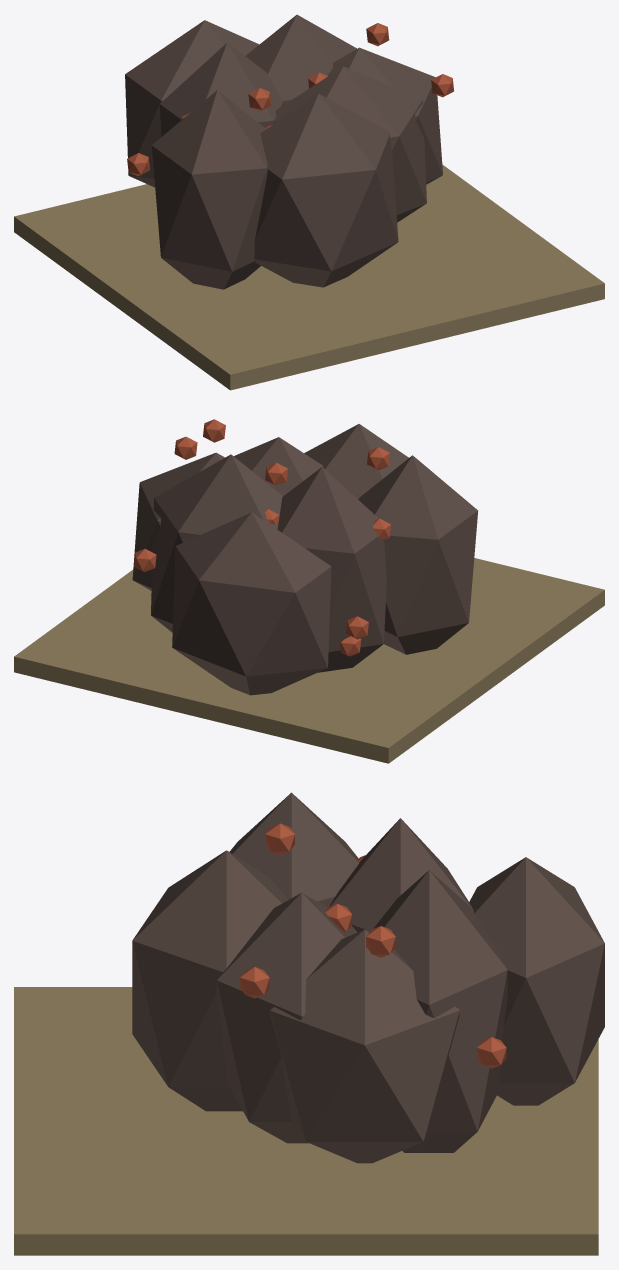
File: Deposit_Iron_Normal.fbx
3 renders of one model, top to bottom at view 1: azimuth 30°, elevation 25°; view 2: azimuth 150°, elevation 25°; view 3: azimuth 270°, elevation 25°, orthographic. The views are drawn at different scales.
Parts seen in each view (by area): view 1: Deposit_Iron_Normal_Body; view 2: Deposit_Iron_Normal_Body; view 3: Deposit_Iron_Normal_Body.
Part boxes in pixels (x1=…): Deposit_Iron_Normal_Body: x1=14, y1=14, x2=604, y2=390; Deposit_Iron_Normal_Body: x1=14, y1=419, x2=604, y2=763; Deposit_Iron_Normal_Body: x1=14, y1=792, x2=604, y2=1255.
Bounding box in the file's own units: 1 × 0.5754 × 1.01.
